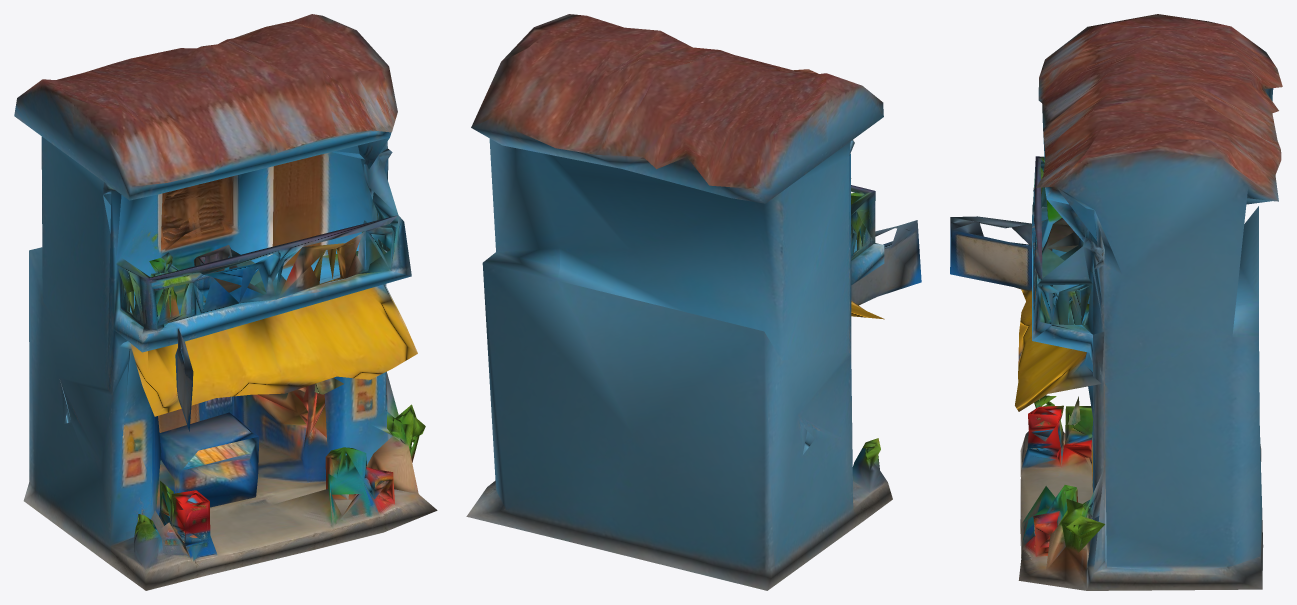
File: building-1.glb
The picture shows the model from 3 angles, left to right: view 1: azimuth 30°, elevation 25°; view 2: azimuth 150°, elevation 25°; view 3: azimuth 270°, elevation 25°; orthographic projection. The views are drawn at different scales.
Parts seen in each view (by area): view 1: tripo_node_2d309cf6-840a-4953-8b7f-63adf385adc2; view 2: tripo_node_2d309cf6-840a-4953-8b7f-63adf385adc2; view 3: tripo_node_2d309cf6-840a-4953-8b7f-63adf385adc2.
Boxes of the visible parts, x1=… form: tripo_node_2d309cf6-840a-4953-8b7f-63adf385adc2: x1=14, y1=14, x2=437, y2=590; tripo_node_2d309cf6-840a-4953-8b7f-63adf385adc2: x1=466, y1=14, x2=921, y2=590; tripo_node_2d309cf6-840a-4953-8b7f-63adf385adc2: x1=950, y1=14, x2=1282, y2=590.
Size of the model in its own units: 0.7252 by 1 by 0.6868.
Materials: 1 (1 with a texture image).
